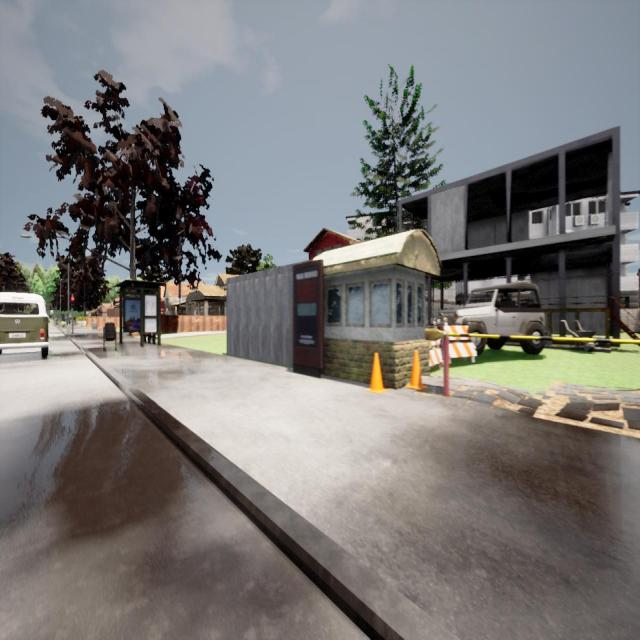Vehicle: (434, 282, 546, 354), (0, 292, 53, 360)
traffic_light: (70, 295, 75, 308)
